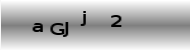2: (109, 14, 122, 27)
G: (48, 22, 64, 35)
J: (62, 21, 69, 37)
a: (32, 21, 44, 33)
j: (79, 9, 87, 26)
